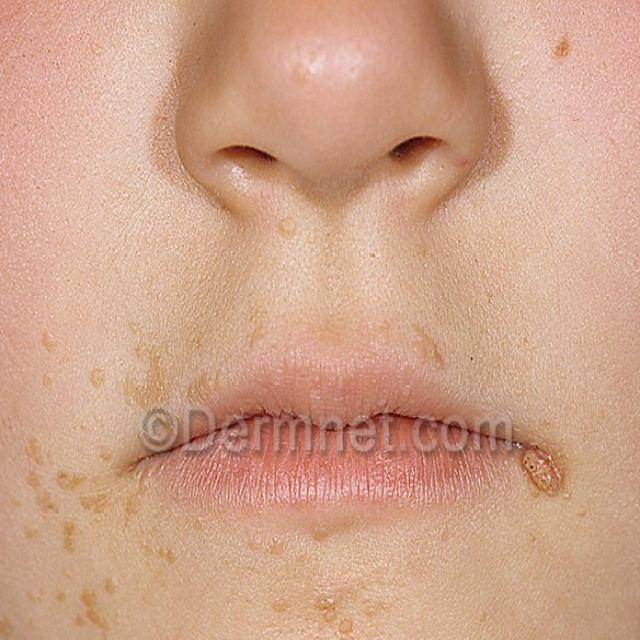Warts: (251, 548, 526, 640), (0, 424, 117, 640), (528, 16, 598, 115), (510, 402, 560, 521)
